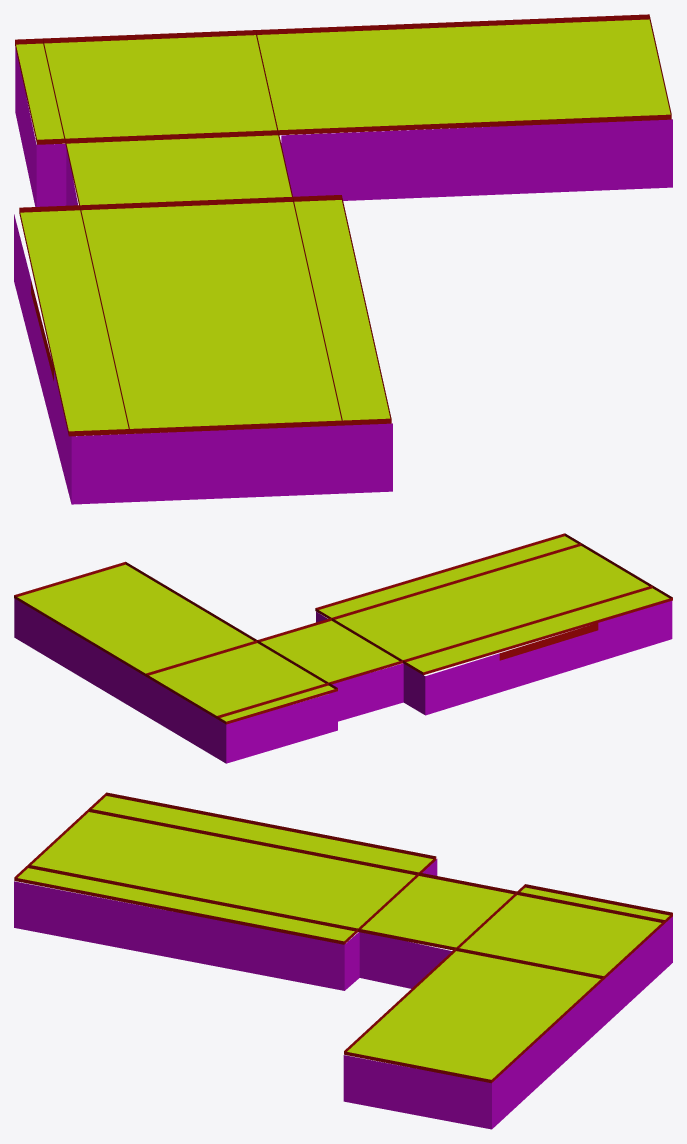
Rendered from bgj_29.glb.
3 views of the same model, one above another, from view 1: azimuth 30°, elevation 25°; view 2: azimuth 150°, elevation 25°; view 3: azimuth 270°, elevation 25° (orthographic). The views are drawn at different scales.
Parts seen in each view (by area): view 1: bgj_29; view 2: bgj_29; view 3: bgj_29.
Part boxes in pixels (x1,y1,x2,y2): bgj_29: (14,14,672,504); bgj_29: (14,533,672,763); bgj_29: (14,792,672,1129).
Bounding box in the file's own units: 62.61 × 5.08 × 60.66.
